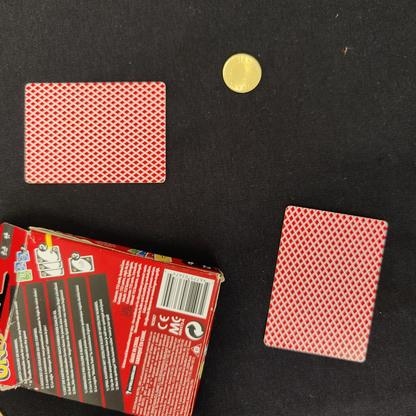card: (259, 200, 394, 371), (10, 76, 174, 189)
